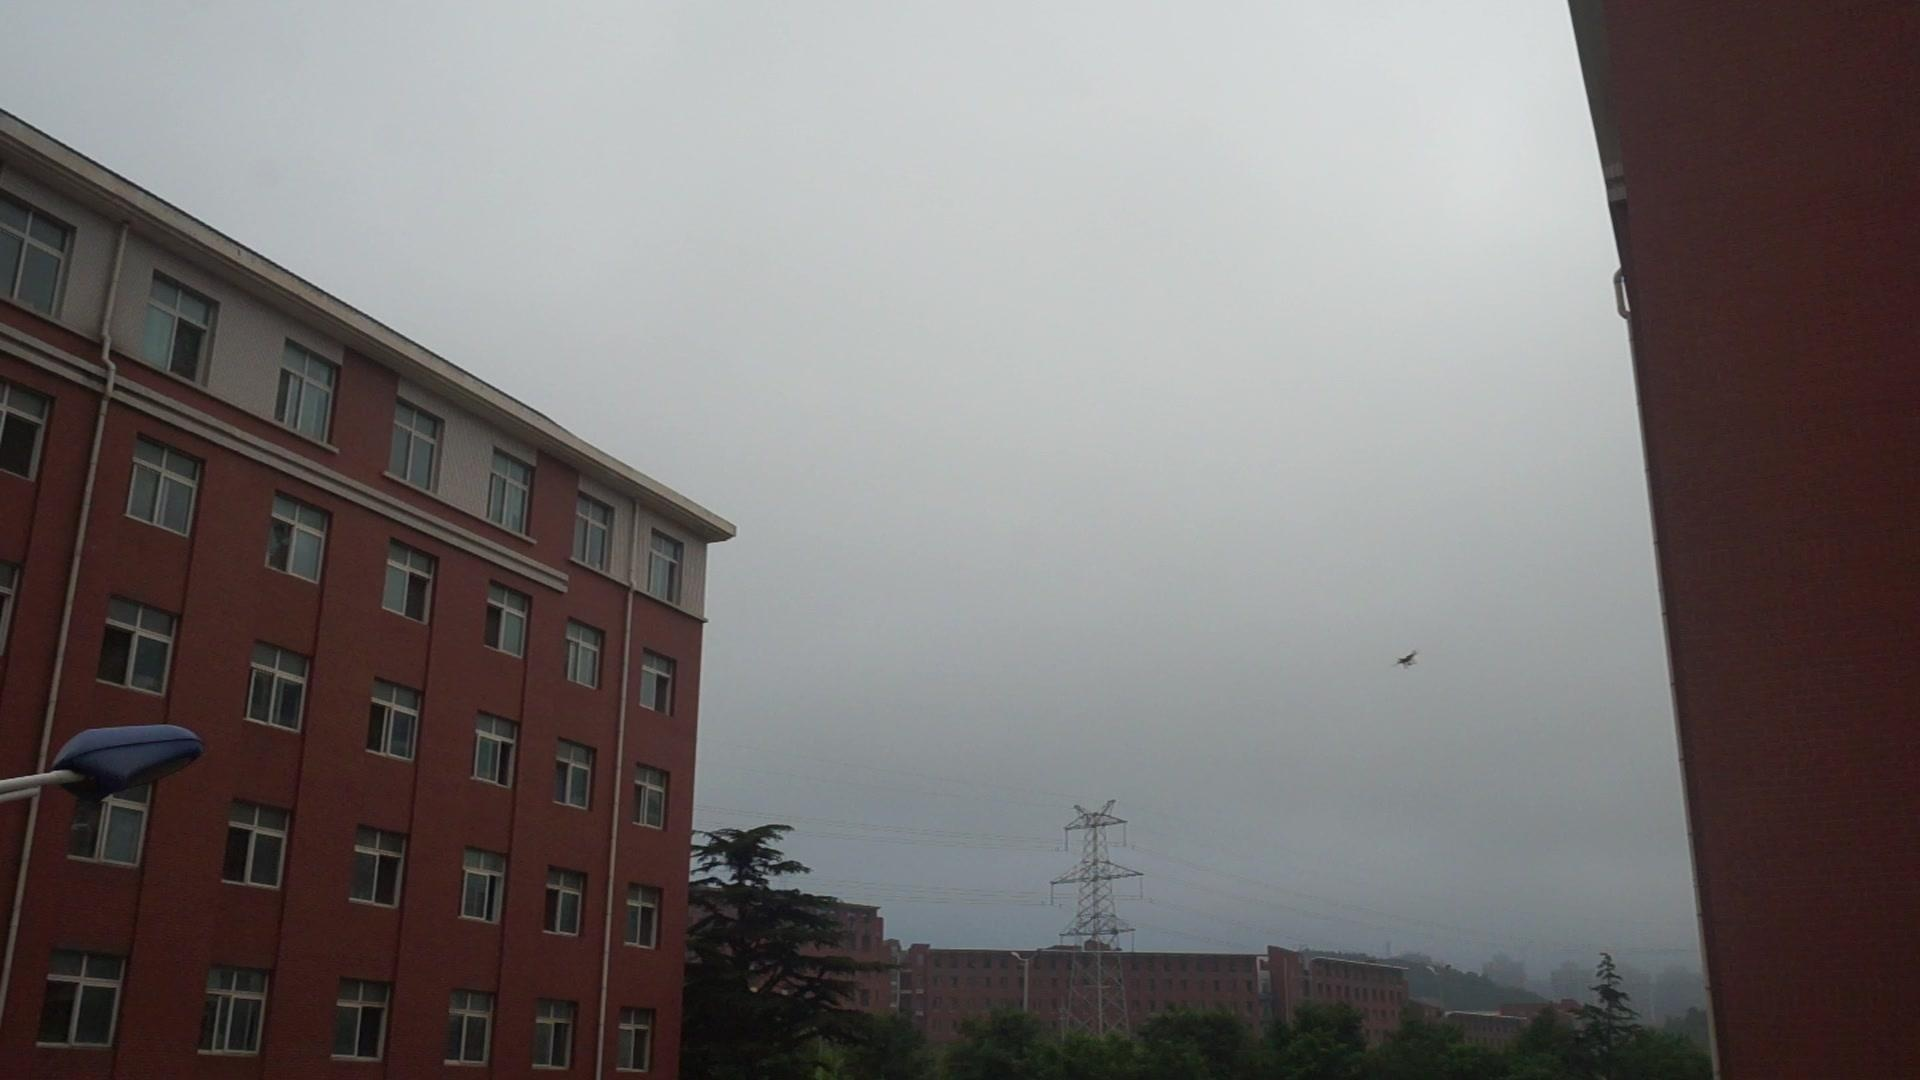UAV: (1393, 651, 1420, 670)
